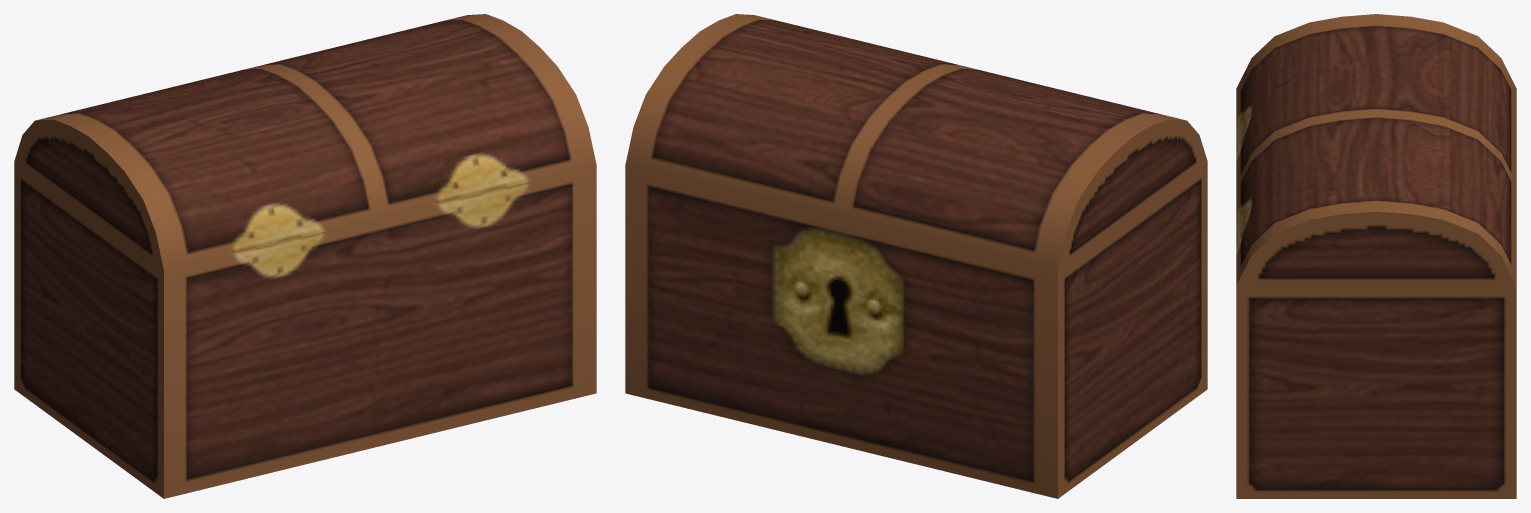
File: GAM0110018.fbx
3 views of the same model, side by side, from view 1: azimuth 30°, elevation 25°; view 2: azimuth 150°, elevation 25°; view 3: azimuth 270°, elevation 25° (orthographic). The views are drawn at different scales.
Visible parts, largest first — view 1: smGAM0110018; view 2: smGAM0110018; view 3: smGAM0110018.
Part boxes in pixels (x1,y1,x2,y2): smGAM0110018: (14,14,596,498); smGAM0110018: (625,14,1207,498); smGAM0110018: (1236,14,1516,498).
Bounding box in the file's own units: 89.72 × 60.93 × 53.78.
1 material, 1 textured.
